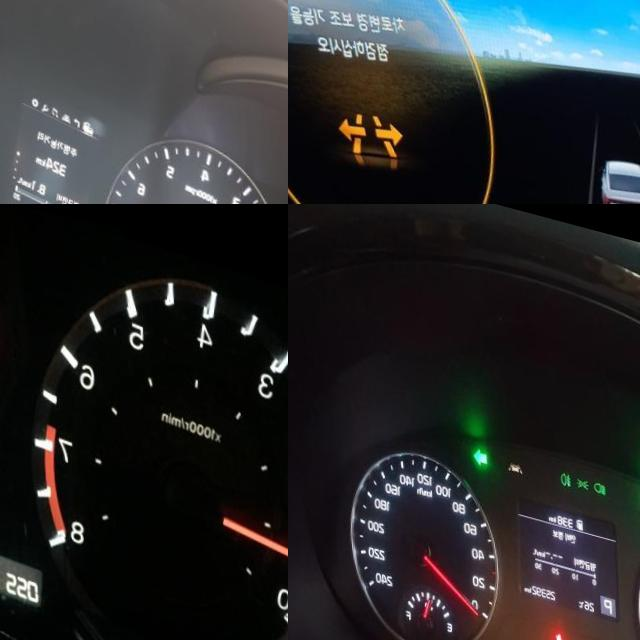FrontFogLight: (558, 454, 569, 470)
LaneCenteringOff: (506, 447, 520, 460)
Low beam: (591, 462, 604, 476)
SideLamp: (574, 458, 587, 473)
